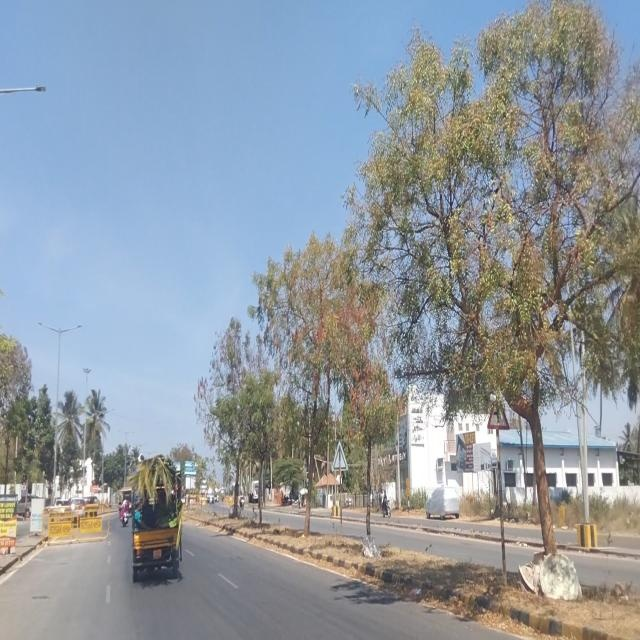bien_nguy_hiem: (487, 396, 509, 433)
